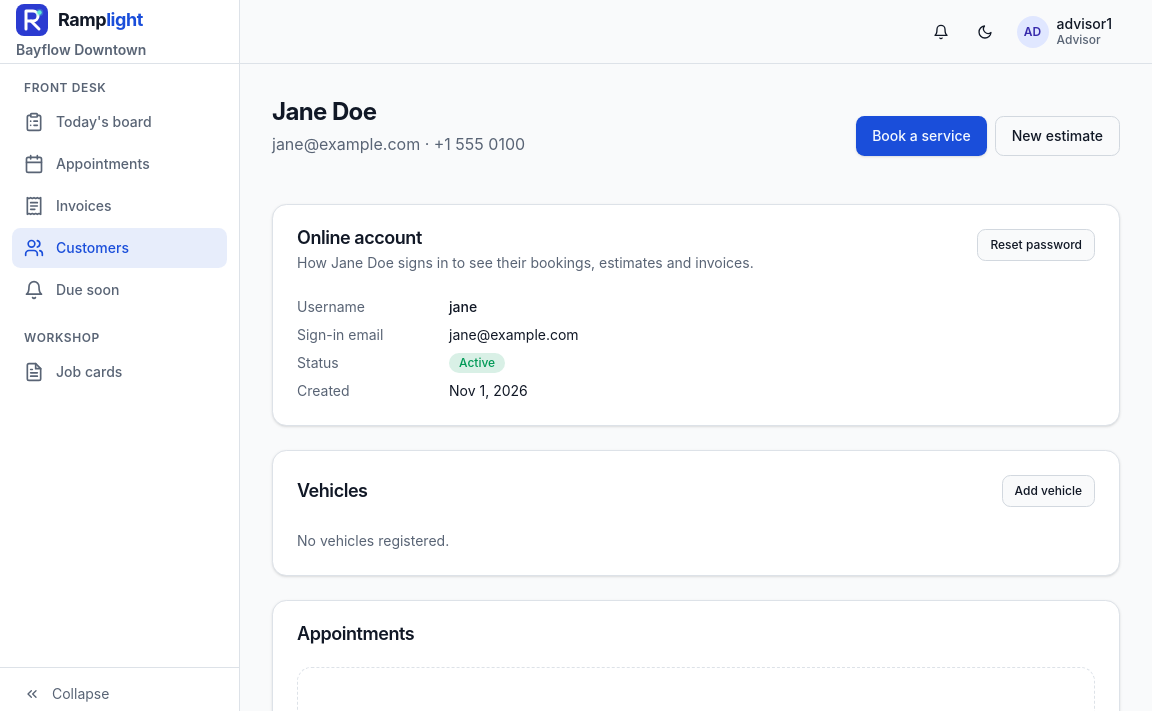
password resets › an advisor resets a customer's password from the customer's page
Click the button with aria-label "Reset password for Jane Doe" at [1036, 245], box top-left (977, 229), bottom-right (1095, 261)
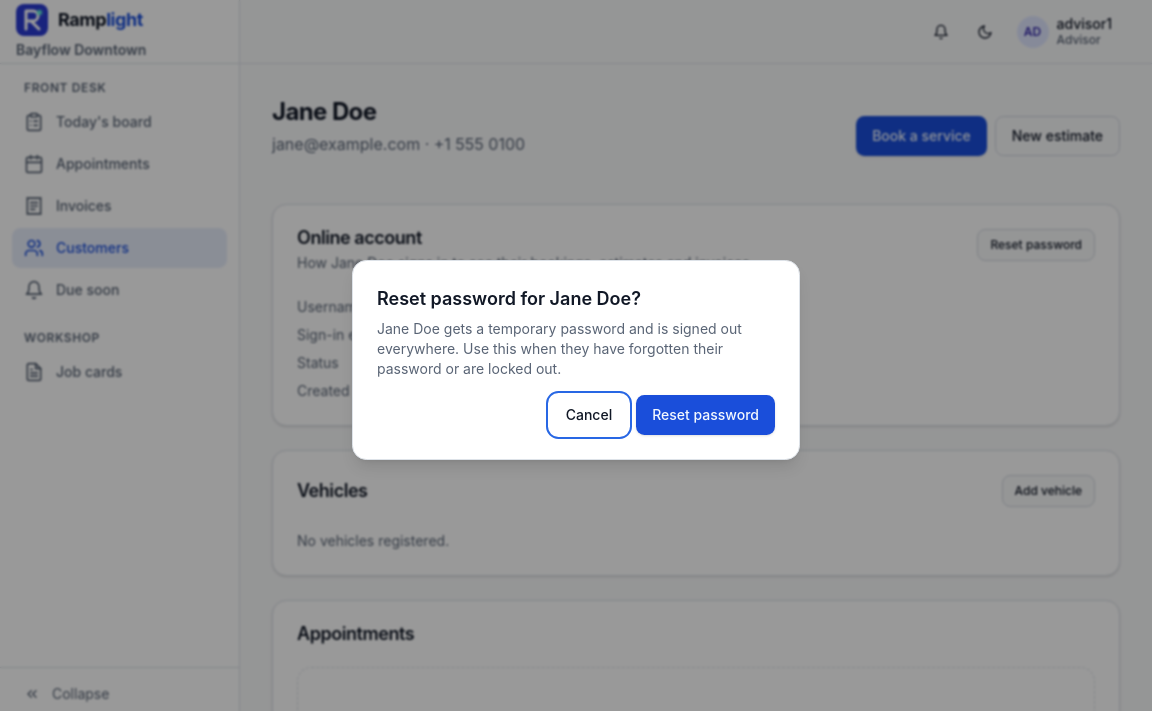
Click the button "Reset password" at [706, 415], box top-left (636, 395), bottom-right (775, 435)
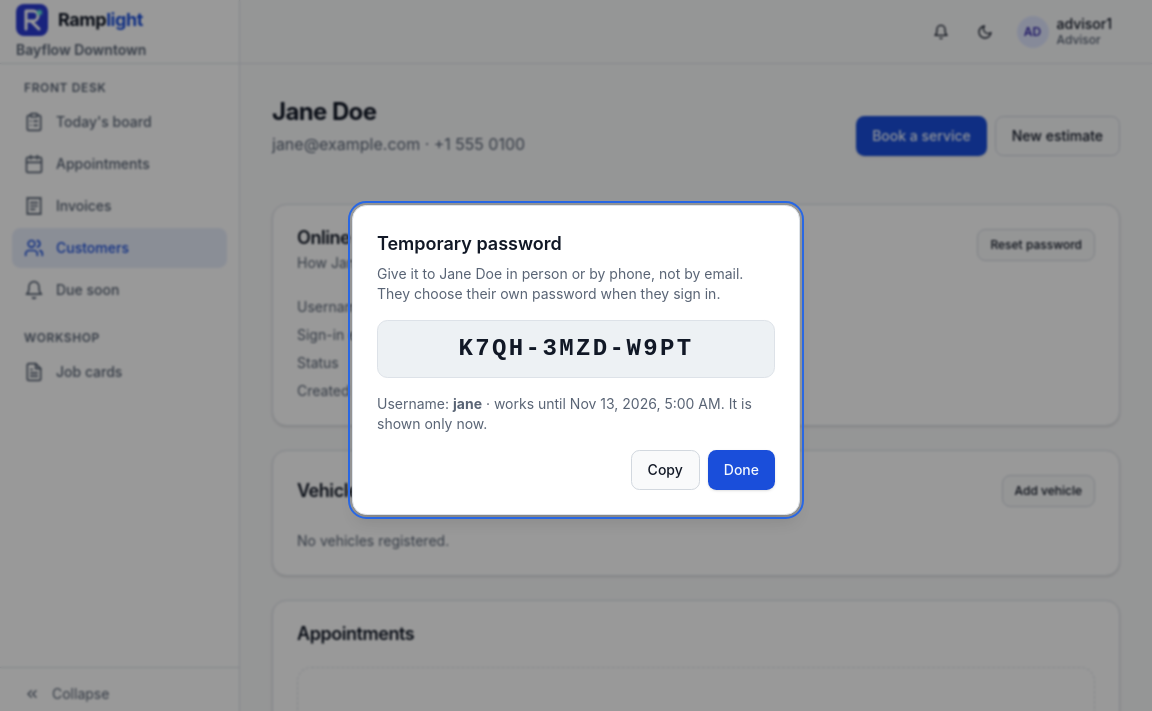
Expected: the text with test id "temporary-password" reads "K7QH-3MZD-W9PT", top-left (458, 335), bottom-right (694, 362)
